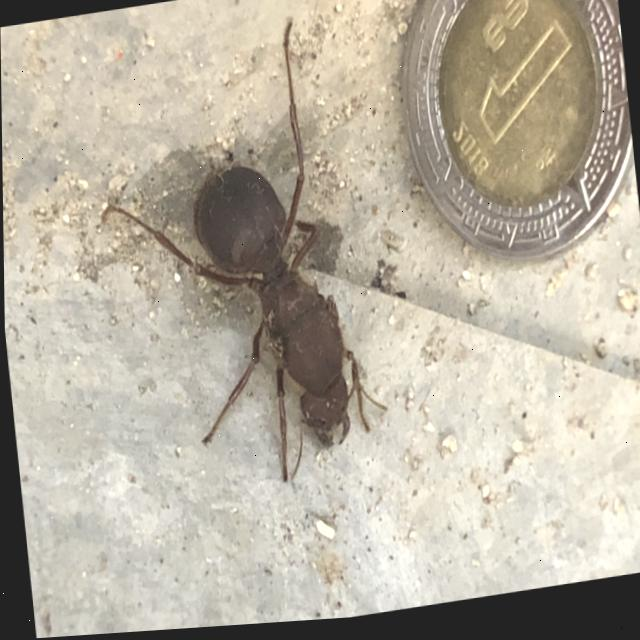Alive-Female-Dealate: (83, 12, 392, 513)
